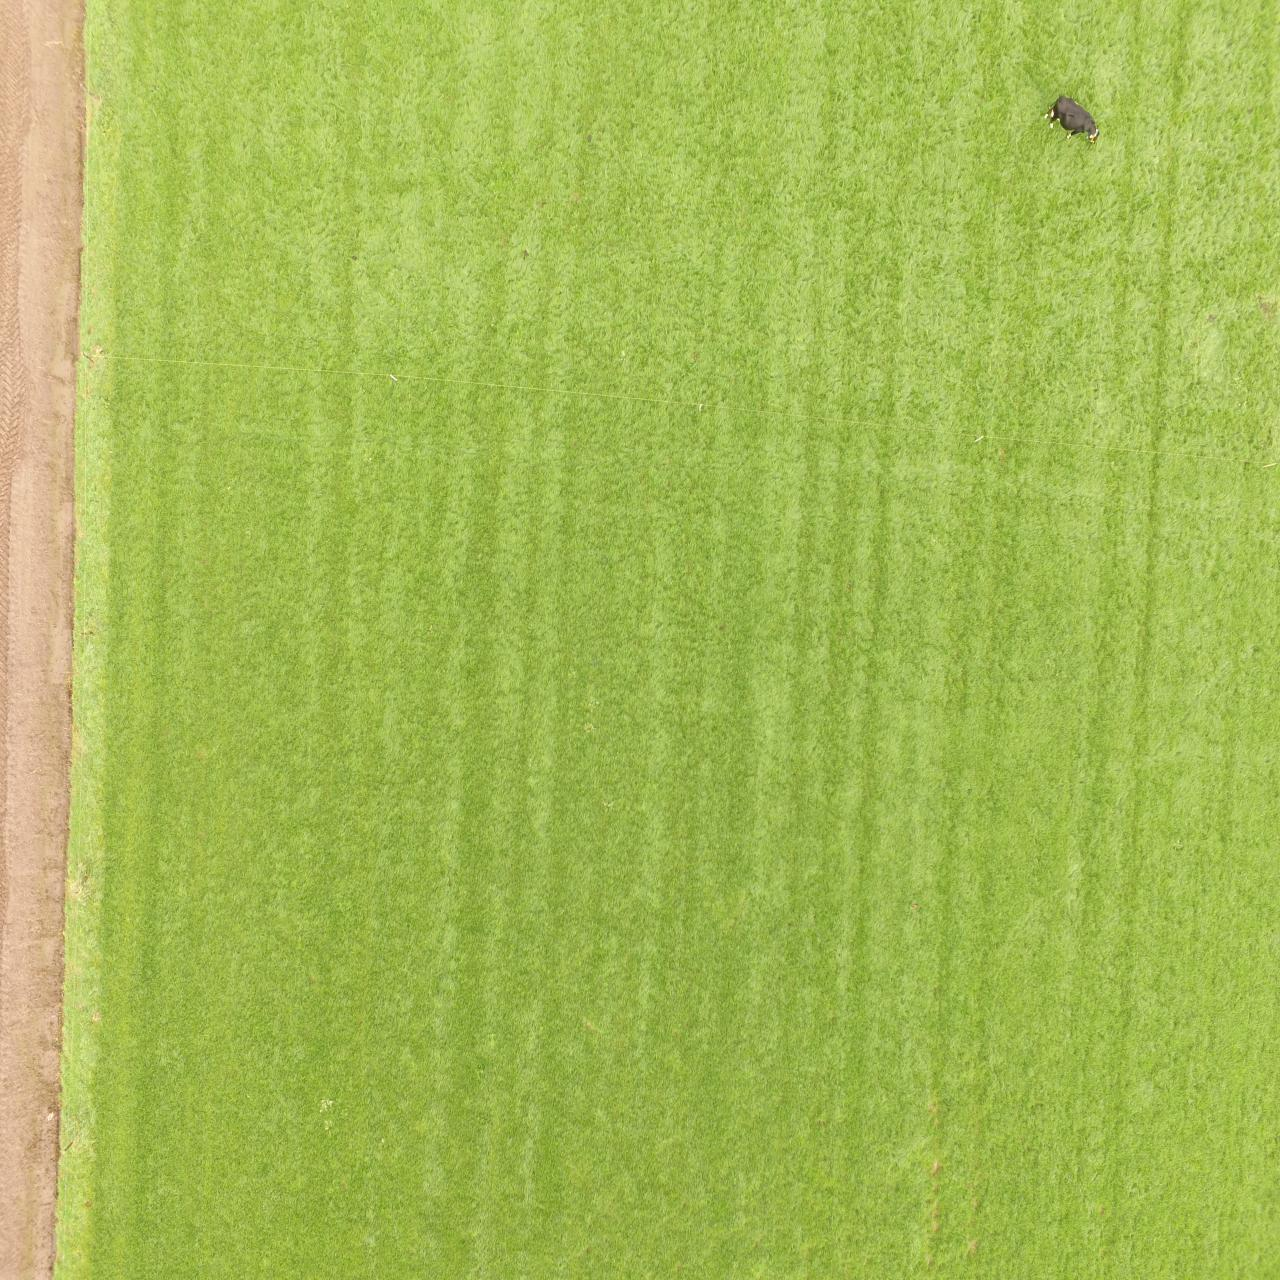cow: (1041, 90, 1102, 149)
